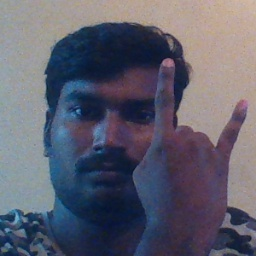V: (131, 55, 250, 240)
